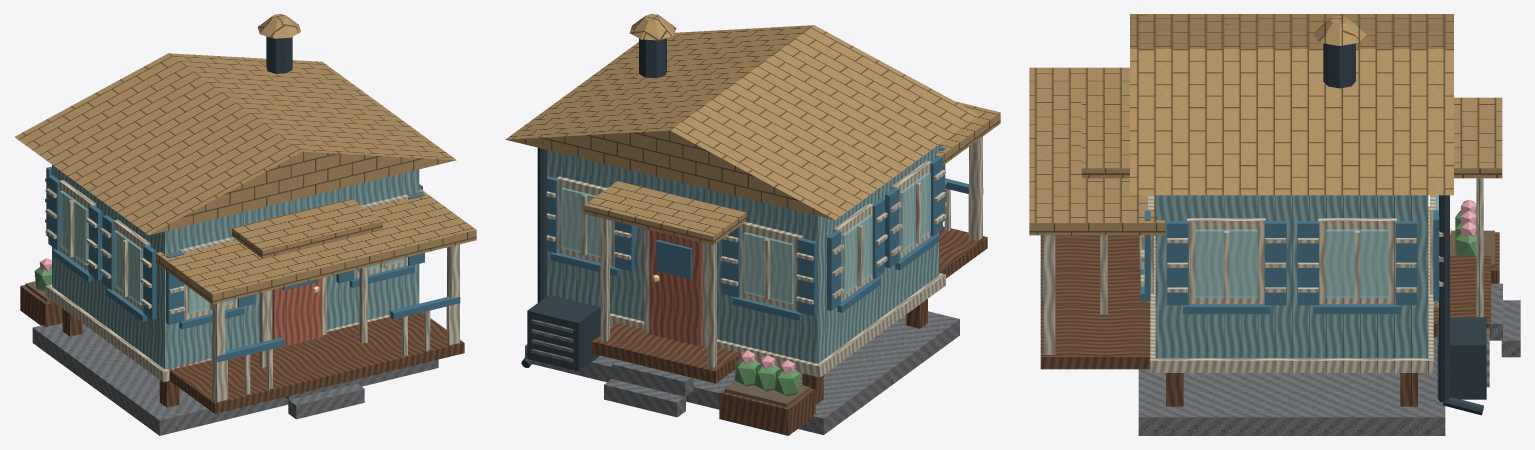
File: house_beach_lv1_porch.glb
The picture shows the model from 3 angles, left to right: view 1: azimuth 30°, elevation 25°; view 2: azimuth 150°, elevation 25°; view 3: azimuth 270°, elevation 25°; orthographic projection. The views are drawn at different scales.
Parts seen in each view (by area): view 1: gable_roof, walls, porch_roof, porch_floor, foundation, front_porch_canopy, front_door, floor_trim, left_window_frame, left_window_frame.001, front_step.001, left_window_glass.001 (+22 smaller); view 2: gable_roof, walls, foundation, back_porch_canopy, back_door, back_deck, back_ac_unit, back_window_frame, floor_trim, back_window_frame.001, back_garden_bed, back_window_glass (+33 smaller); view 3: gable_roof, walls, foundation, porch_roof, porch_floor, right_window_frame.001, right_window_frame, floor_trim, right_window_glass, right_window_glass.001, back_porch_canopy, front_porch_canopy (+21 smaller).
Boxes of the visible parts, x1,y1,x2,y2 form: gable_roof: (14, 53, 456, 235); walls: (52, 165, 419, 369); porch_roof: (156, 188, 476, 304); porch_floor: (168, 312, 464, 413); foundation: (32, 323, 438, 435); front_porch_canopy: (232, 199, 382, 258); front_door: (272, 278, 322, 348); floor_trim: (45, 284, 424, 382); left_window_frame: (113, 219, 150, 311); left_window_frame.001: (59, 180, 96, 271); front_step.001: (288, 383, 364, 419); left_window_glass.001: (59, 190, 88, 265); gable_roof: (505, 25, 979, 220); walls: (547, 144, 939, 363); foundation: (525, 311, 959, 434); back_porch_canopy: (584, 181, 746, 245); back_door: (649, 230, 702, 346); back_deck: (592, 323, 740, 383); back_ac_unit: (527, 294, 600, 371); back_window_frame: (740, 222, 802, 310); floor_trim: (610, 273, 945, 377); back_window_frame.001: (556, 176, 614, 266); back_garden_bed: (719, 381, 815, 435); back_window_glass: (743, 232, 793, 304); gable_roof: (1130, 14, 1453, 195); walls: (1155, 195, 1428, 358); foundation: (1138, 337, 1445, 435); porch_roof: (1029, 67, 1165, 235); porch_floor: (1040, 235, 1155, 369); right_window_frame.001: (1318, 218, 1396, 304); right_window_frame: (1187, 218, 1265, 304); floor_trim: (1150, 206, 1433, 372); right_window_glass: (1195, 229, 1257, 297); right_window_glass.001: (1326, 229, 1388, 297); back_porch_canopy: (1454, 97, 1502, 178); front_porch_canopy: (1081, 97, 1129, 178).
Bounding box in the file's own units: 3.15 × 3.01 × 3.61.
Materials: 13 (7 with a texture image).
